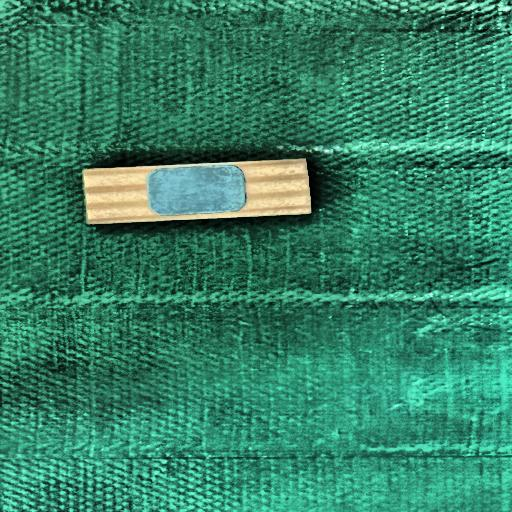objects: (82, 157, 313, 226)
